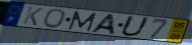7: (149, 18, 170, 40)
A: (88, 13, 117, 36)
K: (21, 6, 45, 27)
M: (67, 10, 98, 32)
O: (42, 8, 68, 29)
U: (119, 15, 152, 37)
